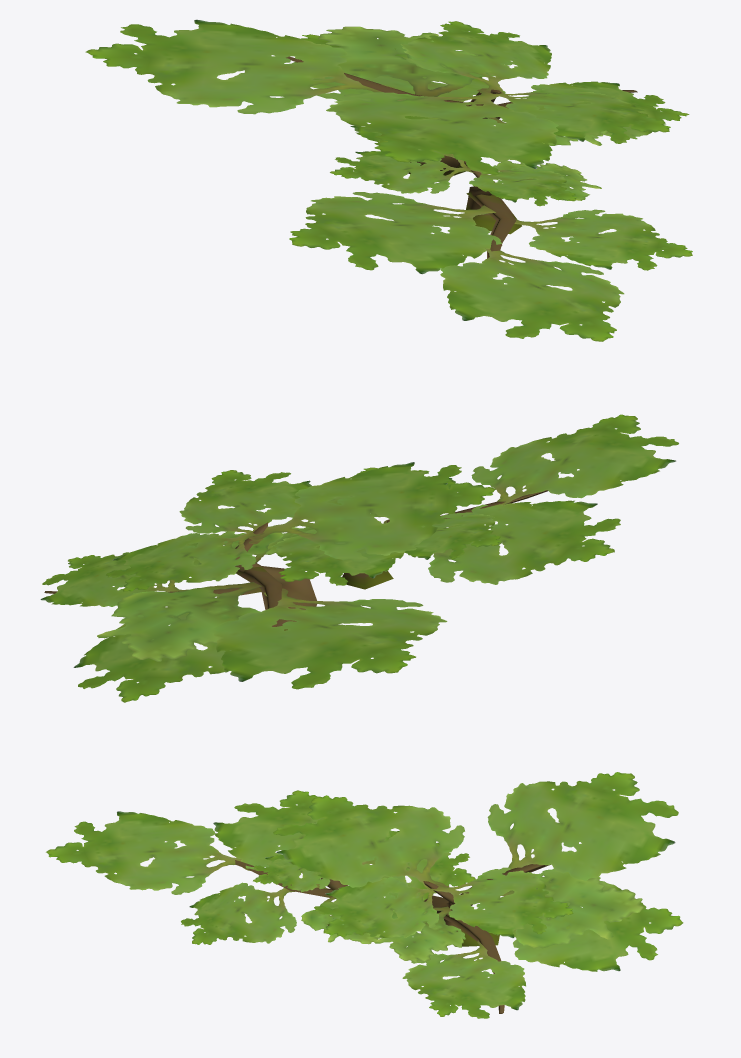
File: liemo_plant_07 (19).fbx
The picture shows the model from 3 angles, top to bottom: view 1: azimuth 30°, elevation 25°; view 2: azimuth 150°, elevation 25°; view 3: azimuth 270°, elevation 25°; orthographic projection. The views are drawn at different scales.
Parts seen in each view (by area): view 1: liemo_plant_07 (19); view 2: liemo_plant_07 (19); view 3: liemo_plant_07 (19).
Boxes of the visible parts, x1=… form: liemo_plant_07 (19): x1=85, y1=19, x2=692, y2=341; liemo_plant_07 (19): x1=40, y1=414, x2=678, y2=702; liemo_plant_07 (19): x1=46, y1=772, x2=683, y2=1018.
Size of the model in its own units: 6.42 by 1.3 by 9.05.
